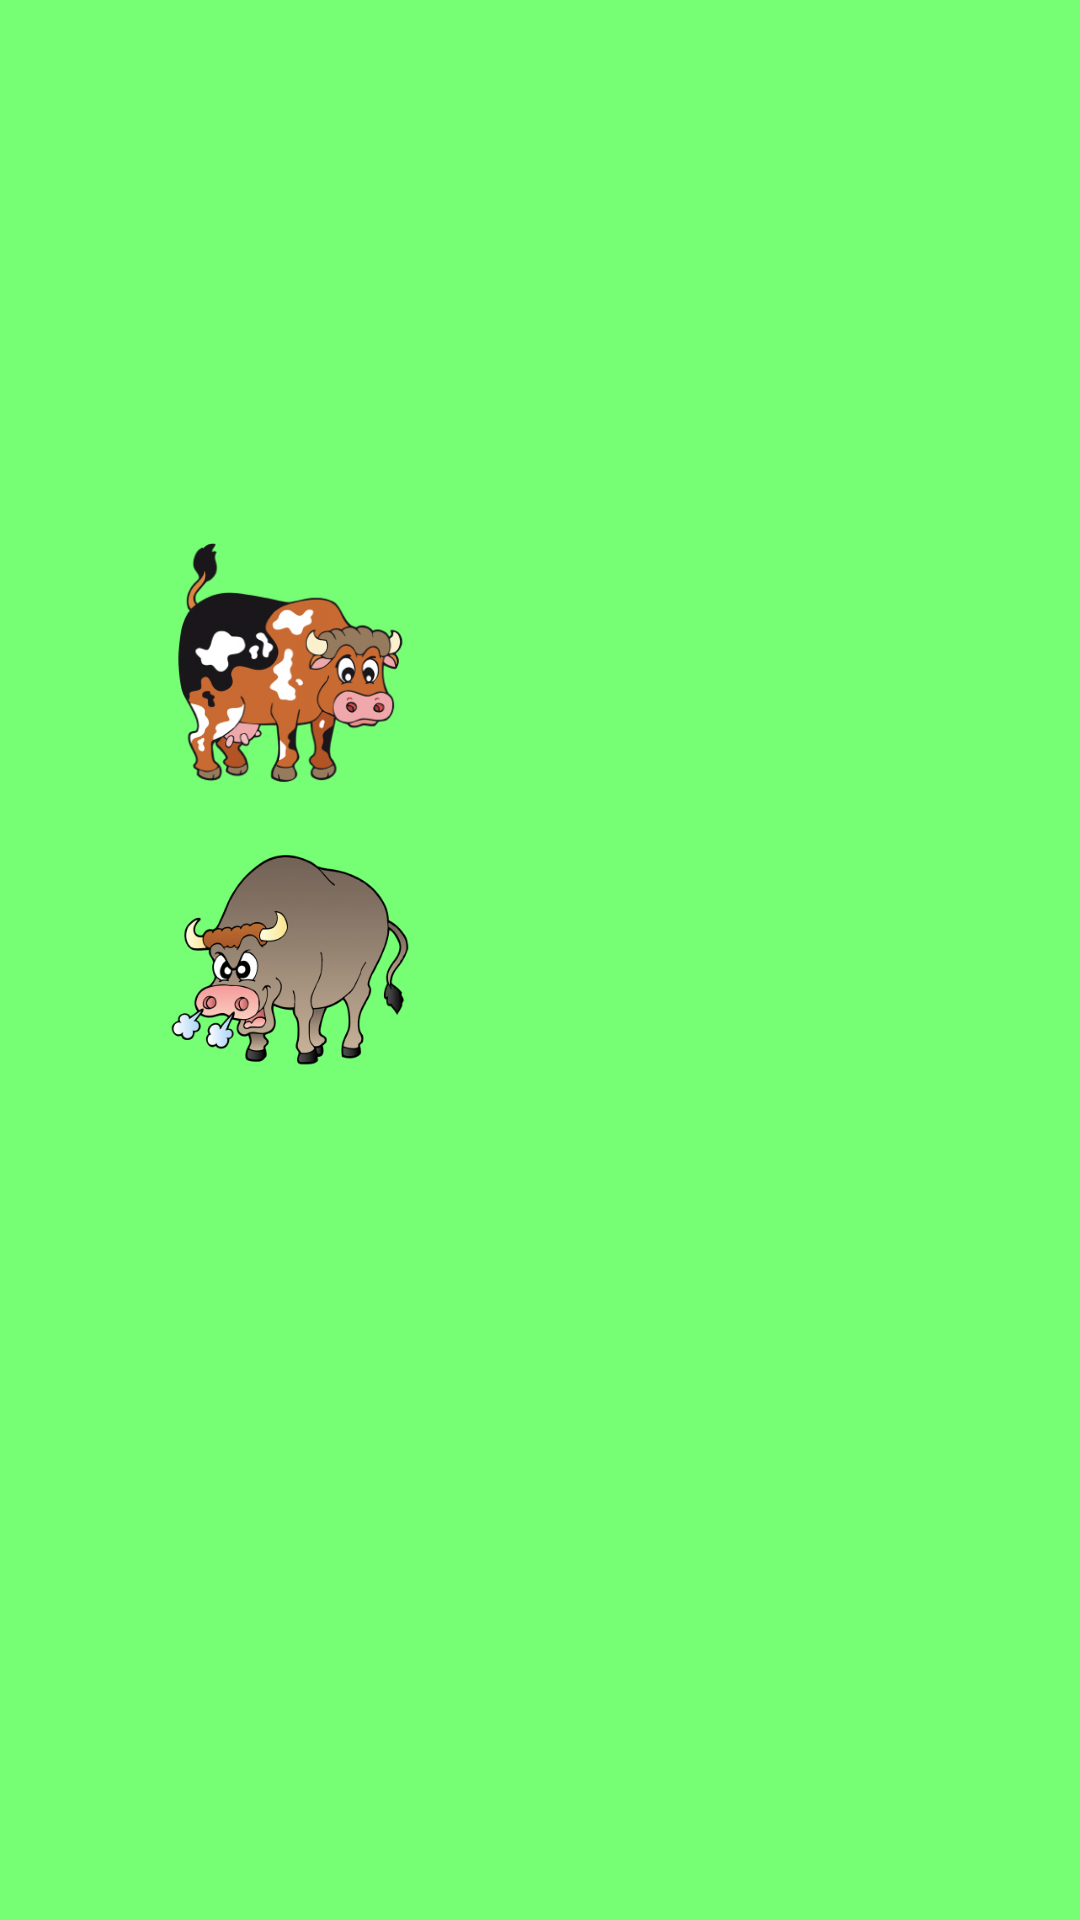

Icons on this 1080px x 1920px Android screen, each with its box as [x1=x1, y1=y1, x2=x2, y2=y2]:
bull: [x1=171, y1=855, x2=409, y2=1065]
cows: [x1=178, y1=543, x2=403, y2=782]
